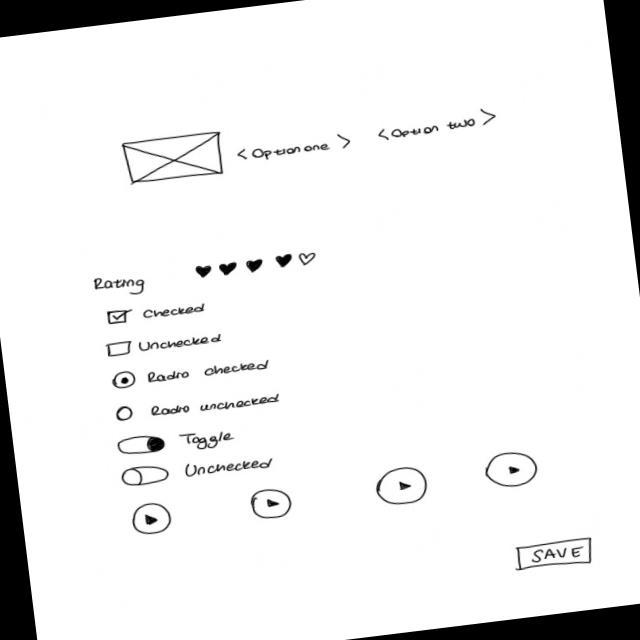button: (514, 537, 596, 573)
checkbox: (105, 328, 227, 361), (106, 298, 212, 328)
image: (122, 130, 227, 186)
label: (182, 453, 278, 481), (90, 271, 148, 301), (180, 428, 238, 453)
link: (376, 106, 499, 145), (235, 132, 354, 164)
radio: (113, 386, 285, 426), (112, 353, 274, 394)
toggle: (116, 431, 169, 458), (121, 463, 173, 489)
